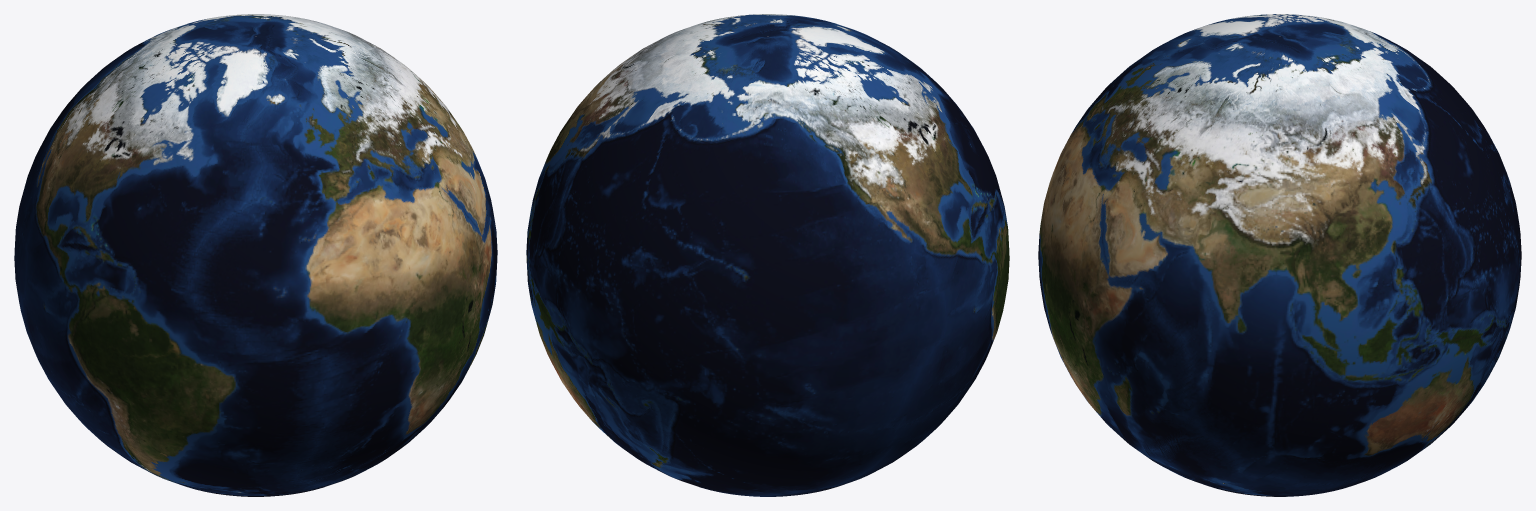
Rendered from earth.obj.
3 views of the same model, side by side, from view 1: azimuth 30°, elevation 25°; view 2: azimuth 150°, elevation 25°; view 3: azimuth 270°, elevation 25° (orthographic).
Visible parts, largest first — view 1: Sphere001; view 2: Sphere001; view 3: Sphere001.
Part boxes in pixels (x1,y1,x2,y2): Sphere001: (14, 14, 497, 496); Sphere001: (526, 14, 1009, 496); Sphere001: (1038, 14, 1521, 496).
Bounding box in the file's own units: 682 × 682 × 682.
